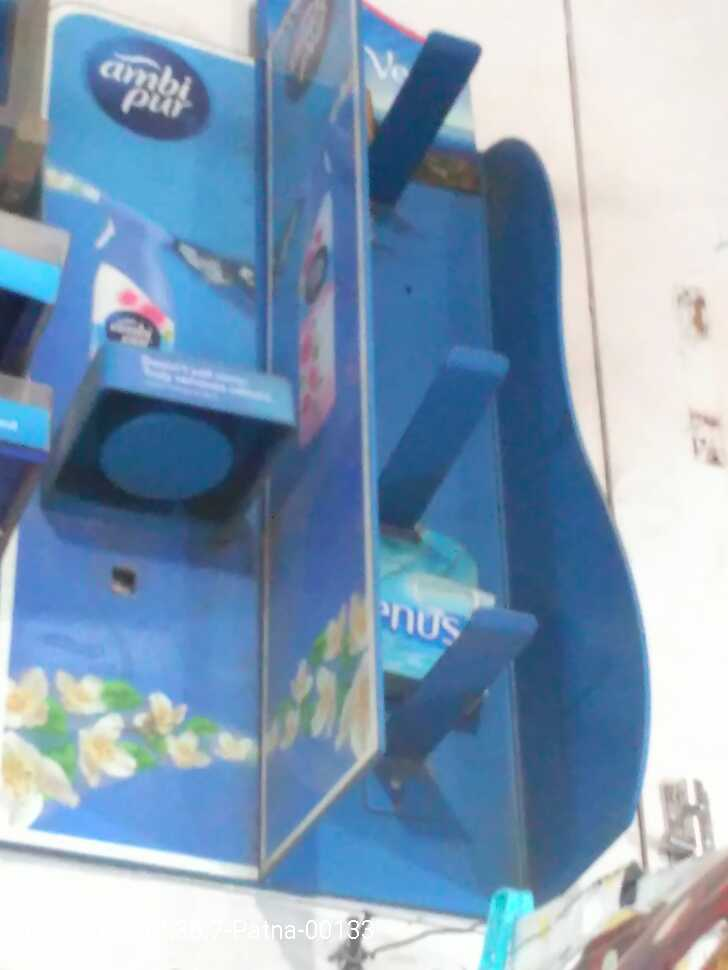reject: (189, 341, 393, 597)
